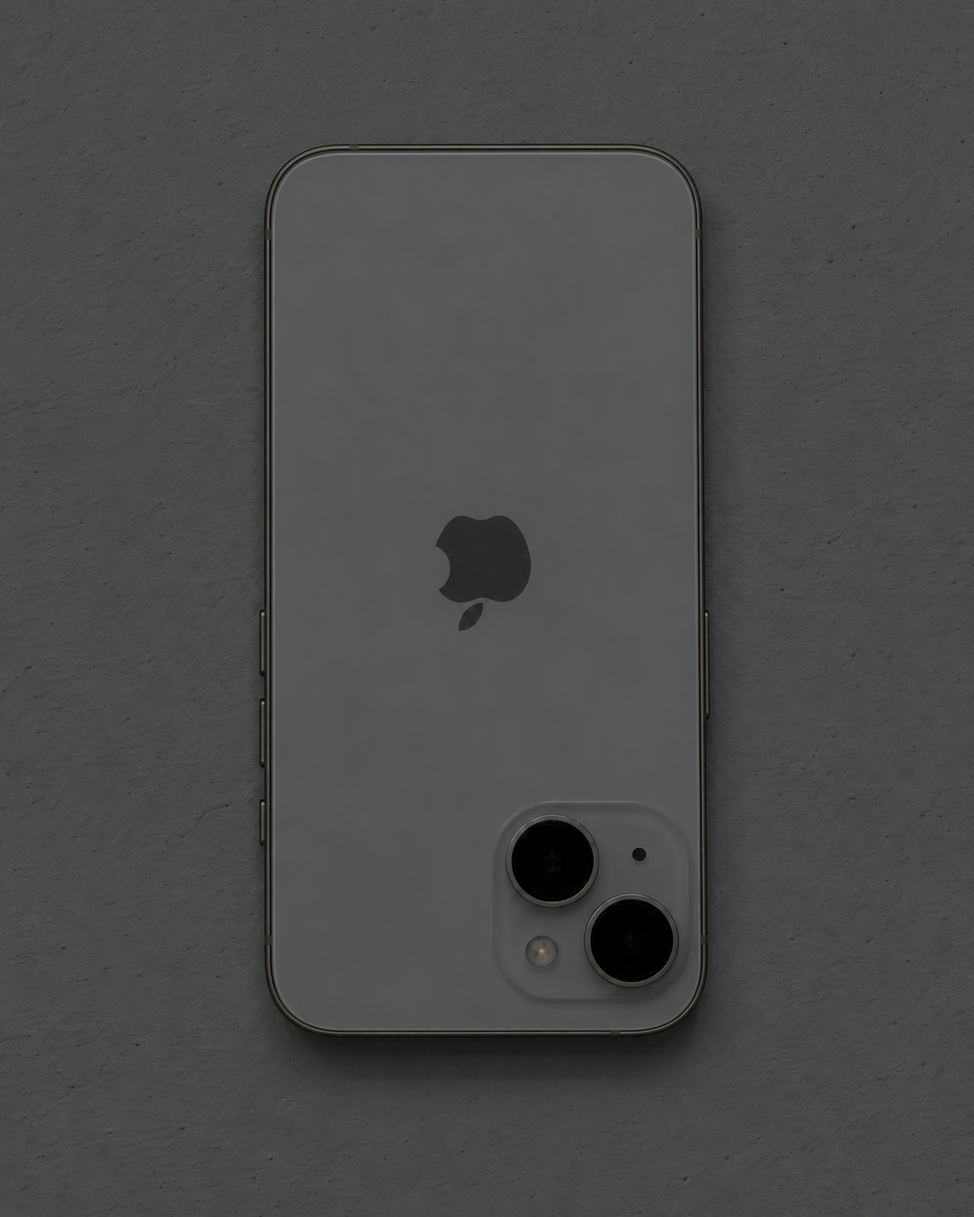iphone_14_white: (165, 128, 781, 1073), (494, 796, 699, 1010)
